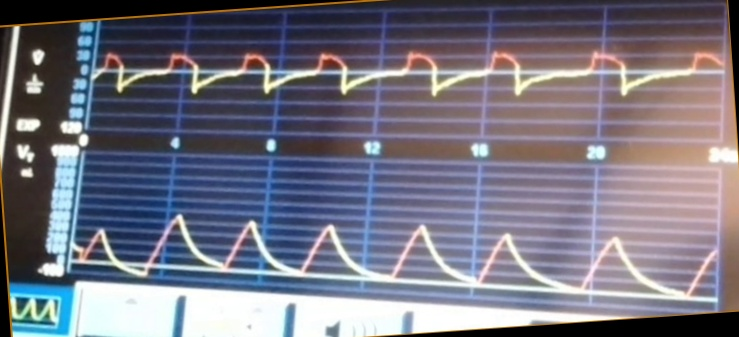Normal Flow: (97, 24, 725, 119)
Normal Volume: (74, 204, 716, 299)
